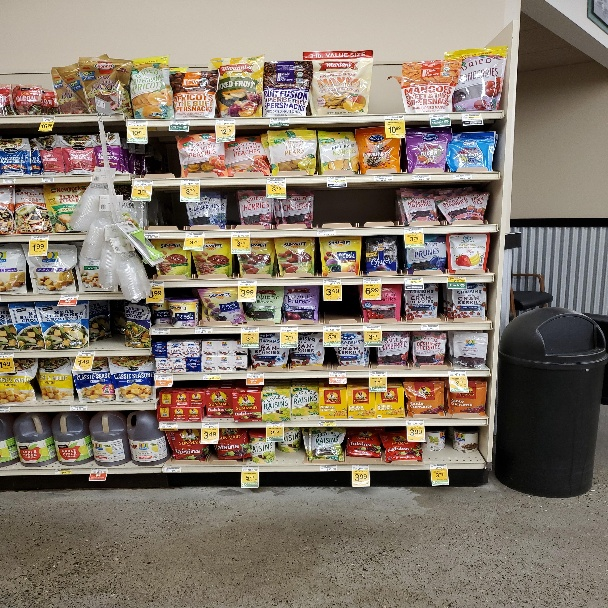All PRICE TAGS: (467, 333, 487, 342), (316, 228, 335, 236), (266, 177, 287, 184), (452, 173, 472, 180), (420, 323, 440, 330), (181, 178, 200, 185), (412, 174, 431, 181), (404, 227, 423, 234), (238, 279, 257, 286), (448, 275, 467, 282), (195, 327, 214, 334), (430, 462, 448, 469), (369, 370, 387, 377), (246, 372, 264, 379), (268, 118, 289, 124), (462, 113, 483, 119), (132, 179, 153, 185), (326, 176, 347, 182), (363, 277, 381, 284), (241, 326, 259, 333), (30, 235, 50, 241), (216, 119, 236, 125), (385, 115, 405, 121), (430, 114, 450, 120), (320, 464, 337, 471), (242, 465, 259, 472), (143, 231, 160, 238), (323, 278, 340, 285), (156, 373, 173, 380), (406, 419, 425, 425), (449, 370, 468, 376), (170, 119, 189, 125), (374, 175, 393, 181), (353, 464, 369, 471), (126, 120, 148, 125), (163, 466, 181, 472), (159, 422, 177, 428), (203, 373, 221, 379), (232, 231, 250, 237), (281, 326, 299, 332), (318, 420, 335, 426), (266, 421, 283, 427), (202, 421, 219, 427), (330, 370, 347, 376), (77, 350, 94, 356), (70, 405, 87, 411), (187, 231, 204, 237), (405, 277, 422, 283), (152, 328, 169, 334), (364, 324, 381, 330), (150, 280, 164, 287), (324, 325, 340, 331), (61, 294, 78, 299), (90, 469, 107, 474), (55, 469, 71, 474), (0, 352, 13, 358), (42, 116, 54, 122), (0, 406, 10, 412)
